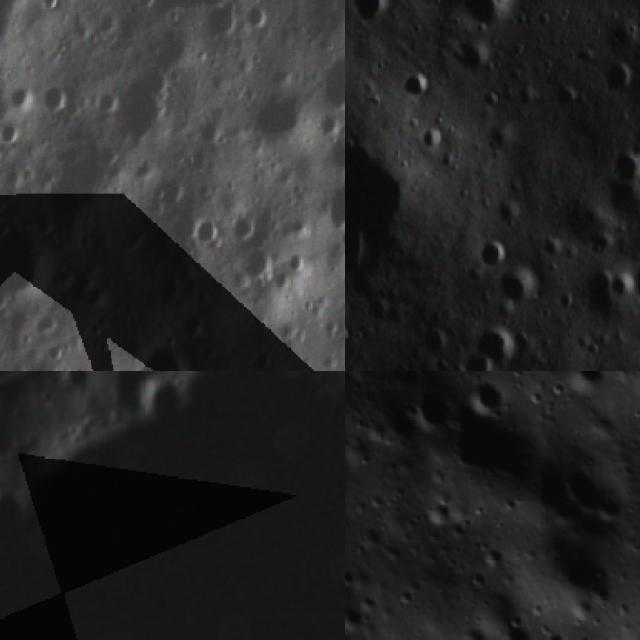crater: (553, 450, 636, 543), (0, 230, 64, 304), (402, 380, 458, 440), (459, 371, 510, 424), (318, 30, 345, 112), (134, 377, 182, 422), (471, 328, 519, 371), (504, 268, 544, 318), (558, 371, 614, 405), (306, 189, 345, 233), (472, 0, 512, 38), (136, 346, 192, 371), (420, 498, 456, 535), (0, 489, 22, 549), (472, 236, 514, 267), (493, 613, 539, 640), (345, 597, 372, 640), (360, 415, 393, 449), (478, 540, 509, 576), (609, 56, 636, 92), (351, 0, 388, 26), (407, 64, 435, 93), (422, 124, 447, 152), (496, 196, 520, 224), (618, 148, 640, 177), (532, 626, 574, 640), (58, 371, 87, 389), (345, 371, 380, 385), (484, 89, 504, 110), (387, 371, 424, 382), (345, 321, 362, 344)
